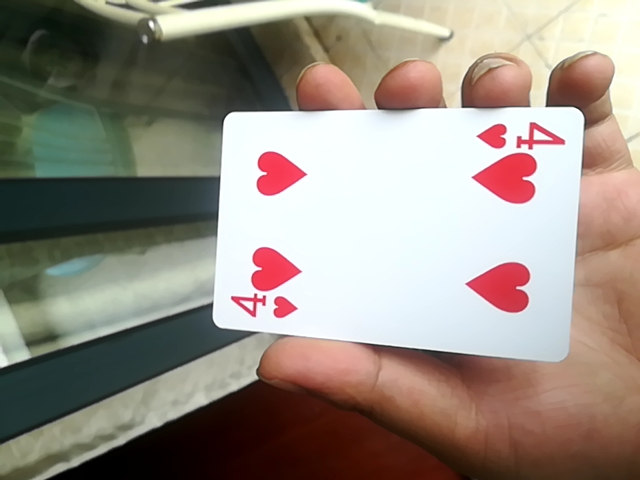hx 4: (212, 107, 586, 367)
